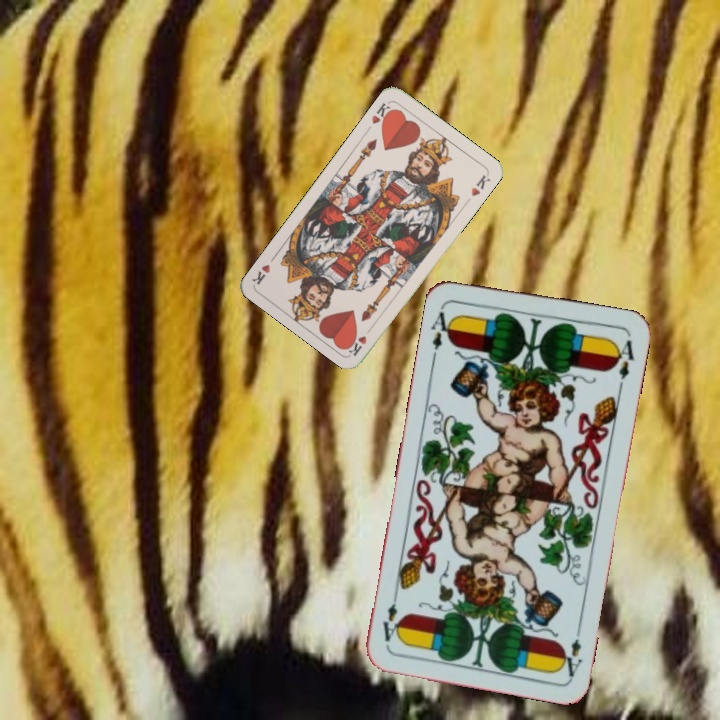EA: (427, 302, 457, 361), (556, 621, 585, 680)
HK: (345, 321, 376, 358), (367, 98, 396, 128)
